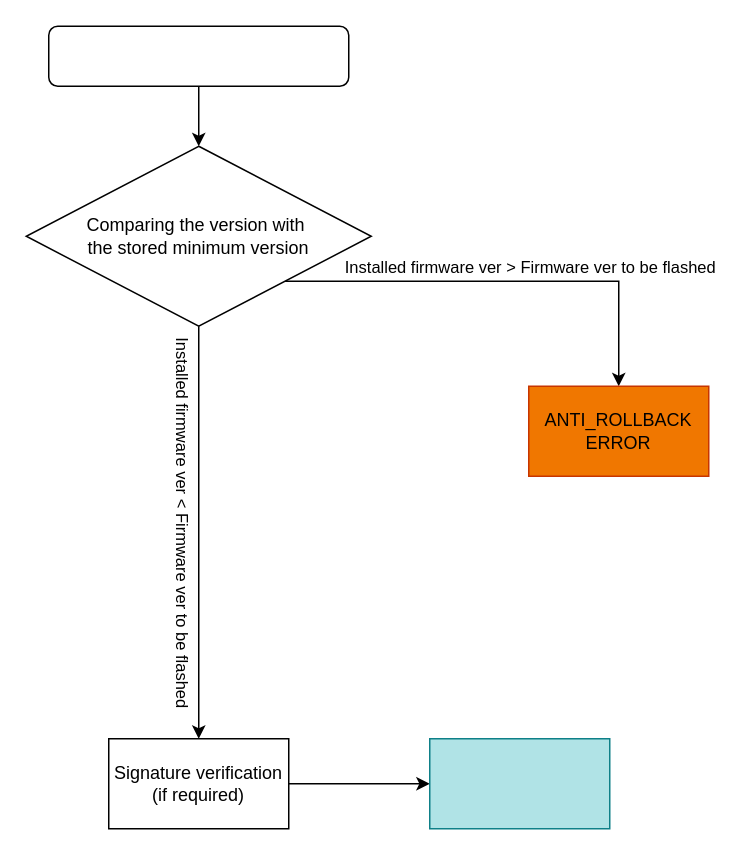
This 741x855 diagram has some shape labels left out. Here are the shapes that lost their labels. From the top down, the centre of each, then its label:
At point 198,55: "Reading the firmware version".
At point 519,783: "Flashing the device".
